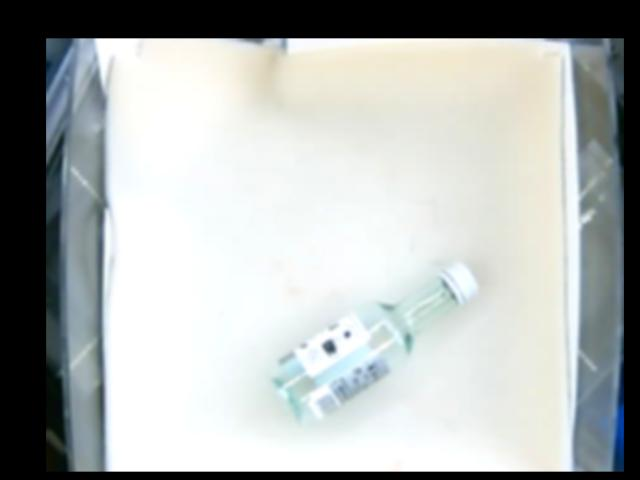Bottle: (273, 262, 477, 421)
